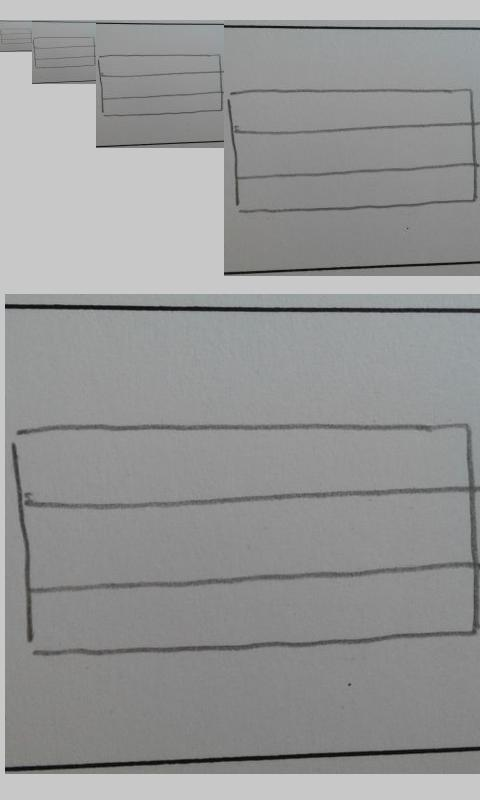list_view: (7, 419, 480, 660), (226, 86, 478, 216), (97, 53, 224, 118), (33, 36, 96, 69), (1, 27, 33, 46)
